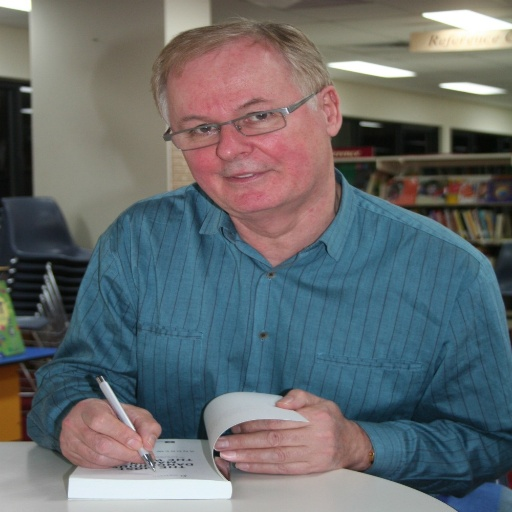hand: (207, 406, 374, 479), (57, 396, 163, 471)
